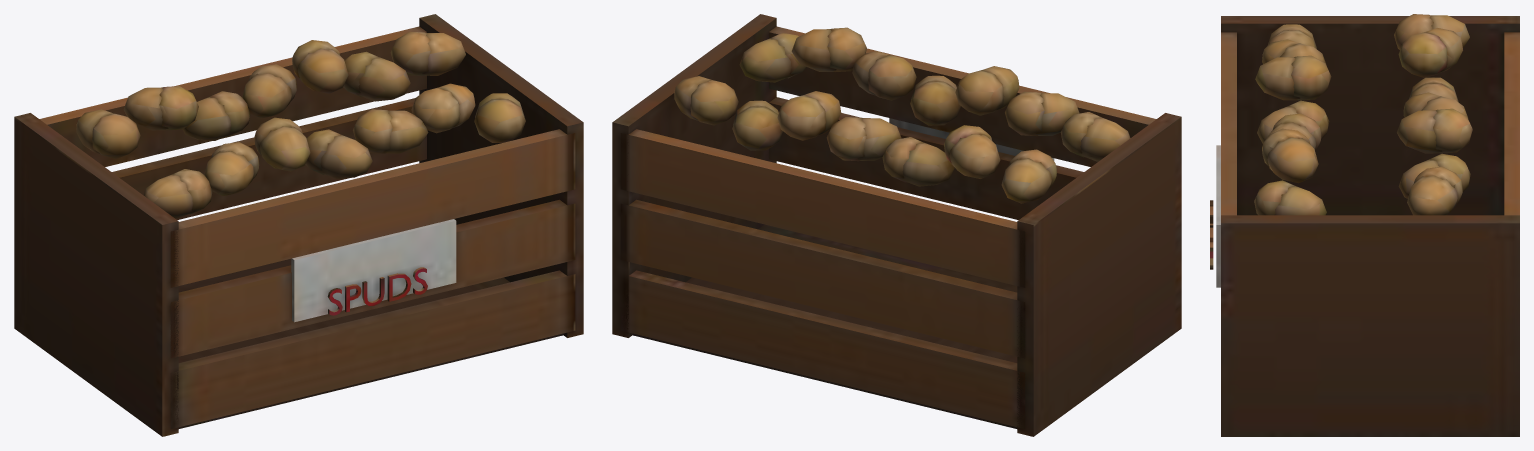
Rendered from caja_patatas.glb.
3 views of the same model, side by side, from view 1: azimuth 30°, elevation 25°; view 2: azimuth 150°, elevation 25°; view 3: azimuth 270°, elevation 25° (orthographic).
Parts seen in each view (by area): view 1: caja_patatas; view 2: caja_patatas; view 3: caja_patatas.
Part boxes in pixels (x1,y1,x2,y2): caja_patatas: (14, 14, 583, 436); caja_patatas: (612, 14, 1181, 436); caja_patatas: (1210, 14, 1519, 436).
Bounding box in the file's own units: 1.56 × 0.877 × 0.985.
Materials: 1 (1 with a texture image).
